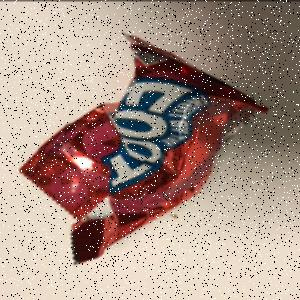Trash: (14, 28, 271, 266)
